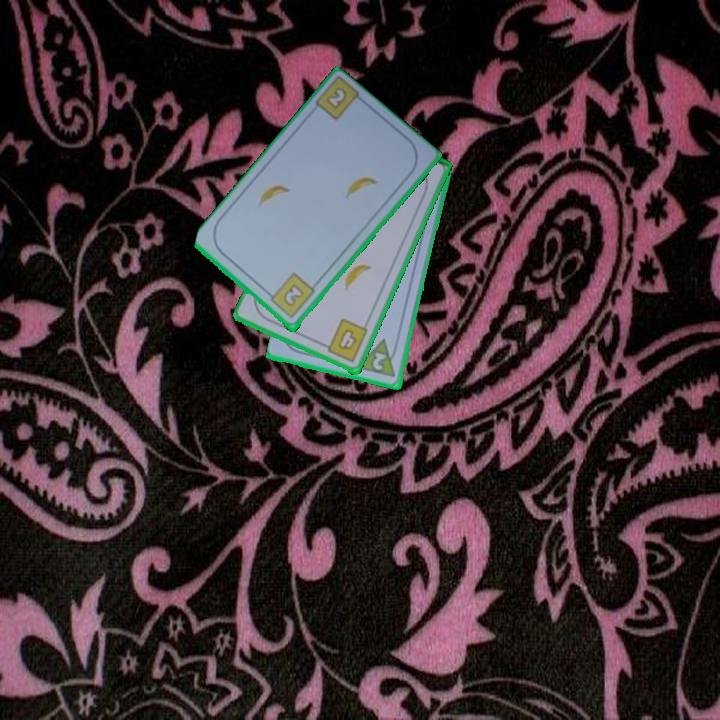2b: (263, 270, 318, 322), (325, 86, 348, 110)
2p: (355, 336, 401, 381)
4b: (318, 315, 371, 366)
